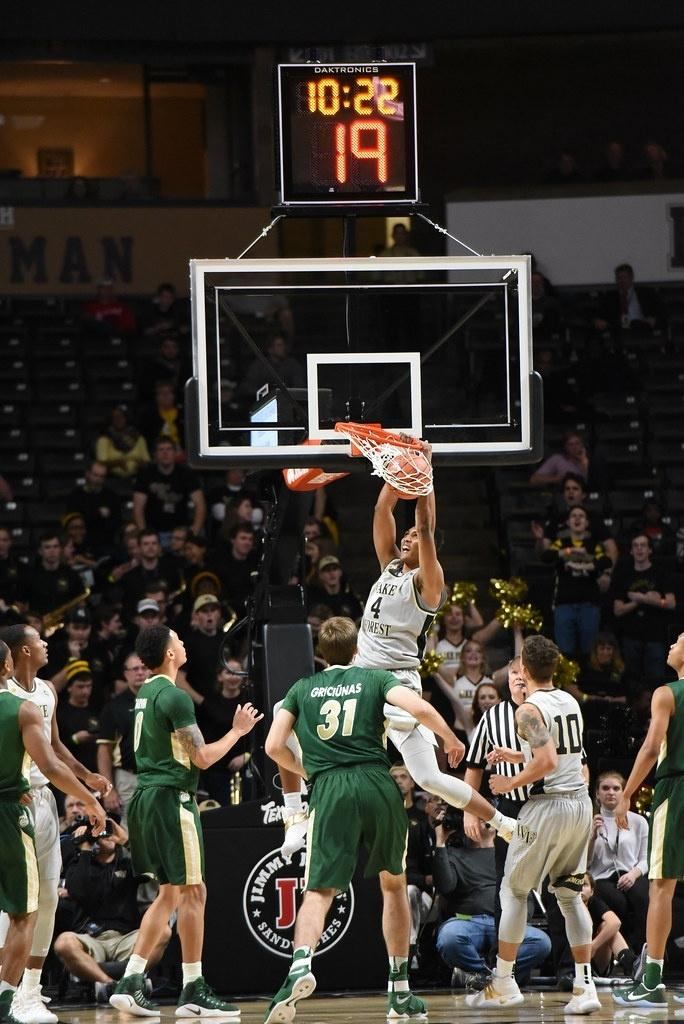basketball-player: (246, 612, 478, 1021), (330, 472, 528, 847), (108, 610, 273, 1024), (484, 634, 609, 1024), (16, 580, 122, 1024), (0, 608, 102, 1024), (608, 612, 684, 1004)
